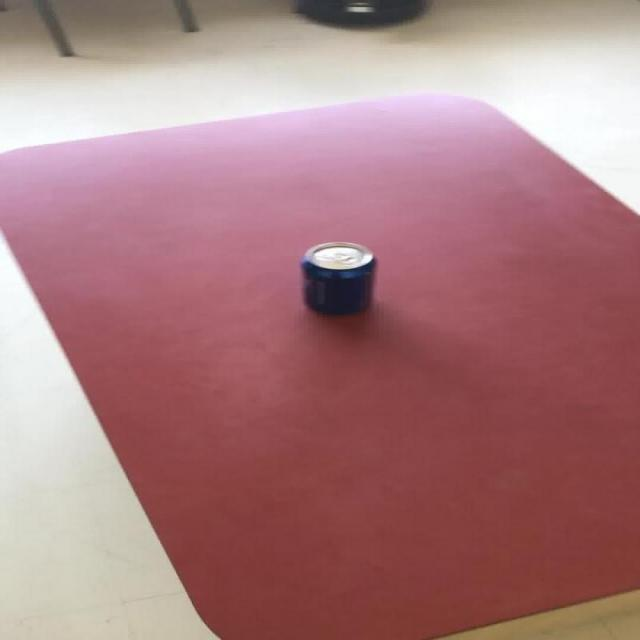Tonic: (299, 240, 375, 315)
